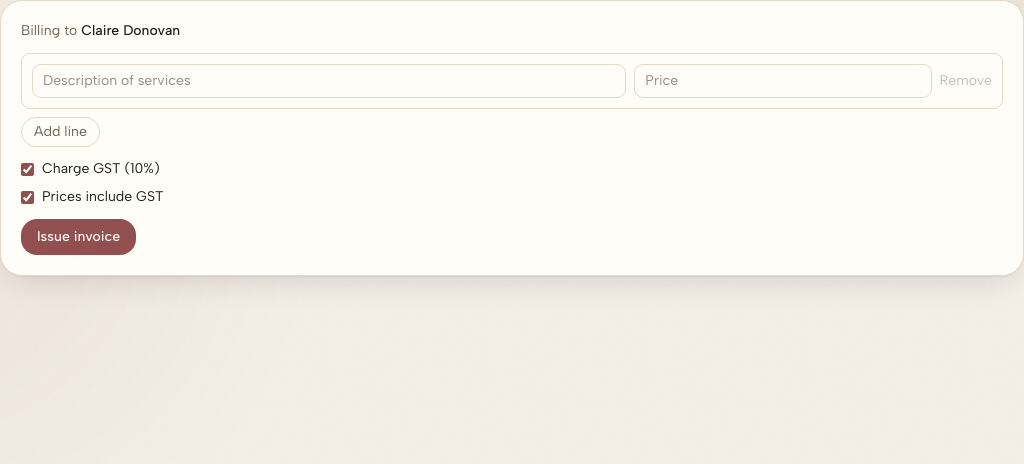
Scenario: ClientInvoiceComposer › names the client it bills and in the issued confirmation
Expected: the text "Billing to Claire Donovan" is shown, x1=21 y1=22 x2=180 y2=39
In the field named "Line 1 description": (329,81) x1=32 y1=64 x2=626 y2=98, type "Consult"
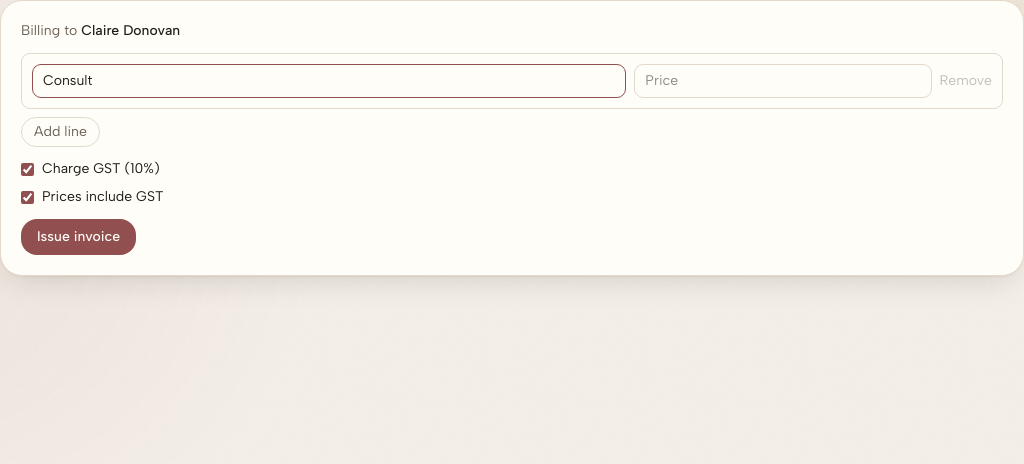
In the field named "Line 1 amount": (783,81) x1=634 y1=64 x2=932 y2=98, type "100"
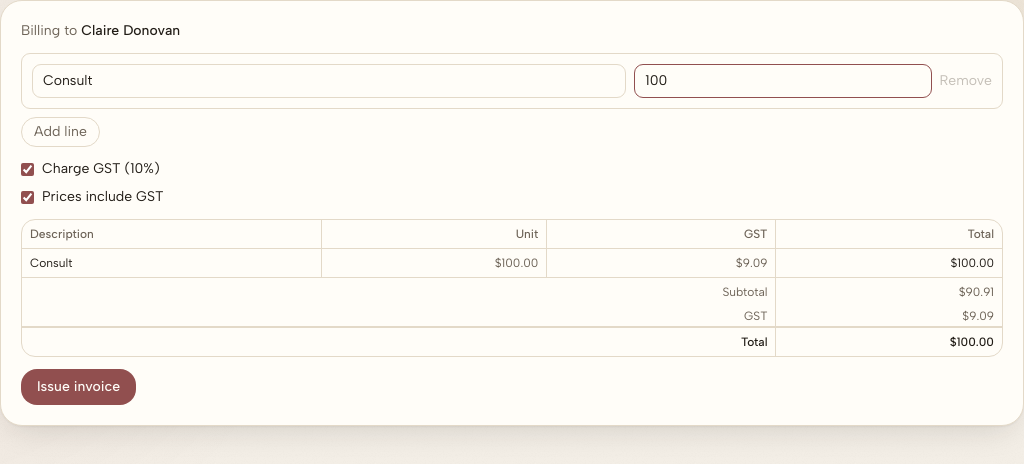
Click the button "Issue invoice": (79,387) x1=21 y1=369 x2=136 y2=405
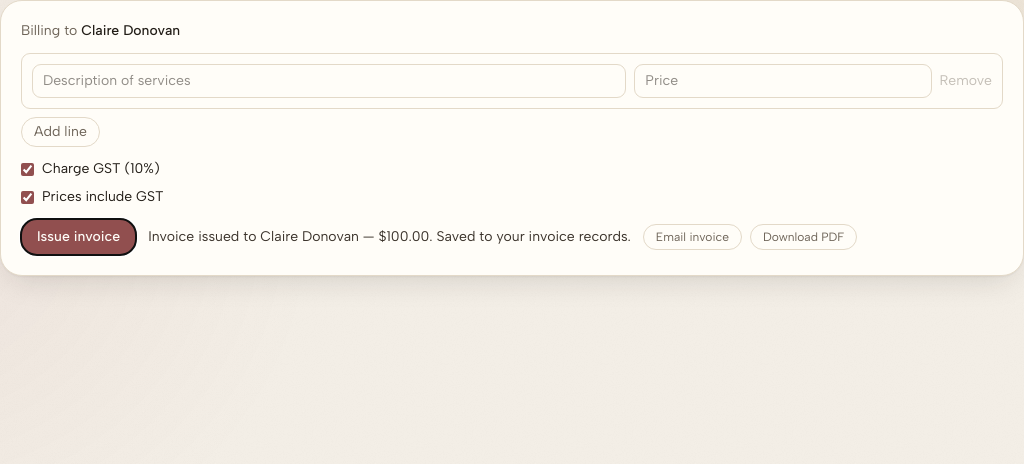
Now the text "Invoice issued to Claire Donovan" is shown, box x1=148 y1=227 x2=631 y2=247
